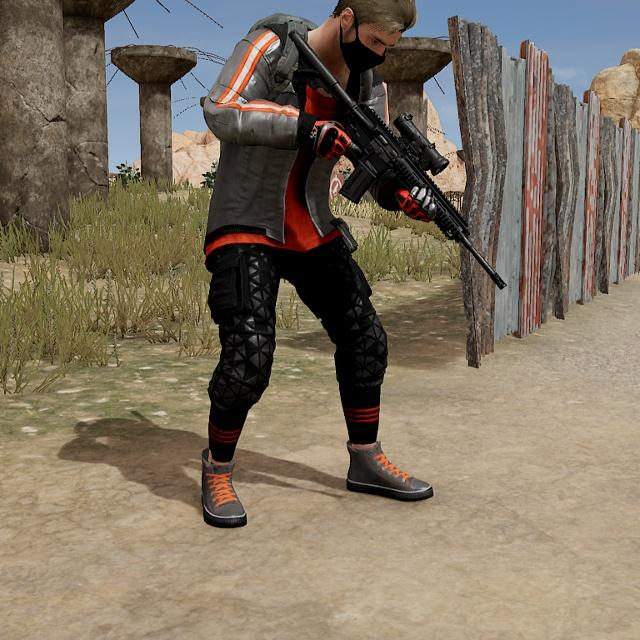head: (330, 0, 418, 78)
people: (191, 0, 441, 533)
